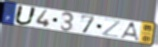3: (59, 11, 75, 33)
4: (35, 9, 51, 29)
7: (80, 14, 97, 35)
A: (118, 21, 140, 42)
U: (13, 5, 38, 26)
Z: (101, 18, 122, 39)
